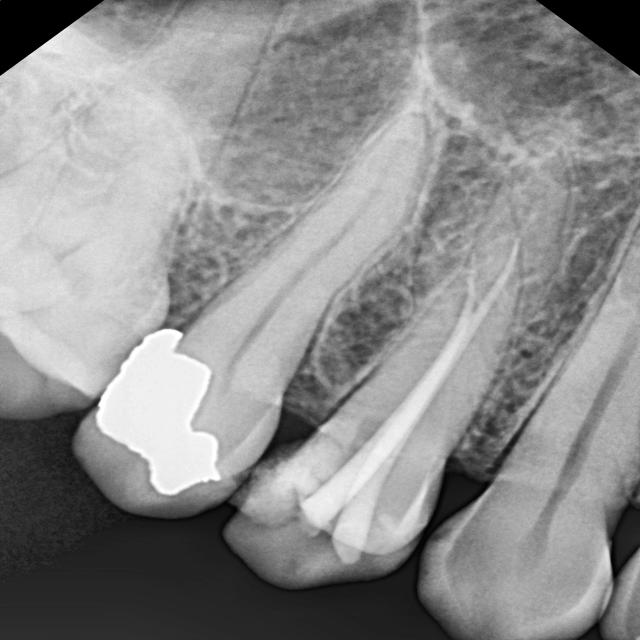Normal: (394, 212, 638, 640)
Overhang: (34, 300, 213, 449)
RCT: (285, 221, 550, 585)
Restoration: (69, 310, 247, 507)
